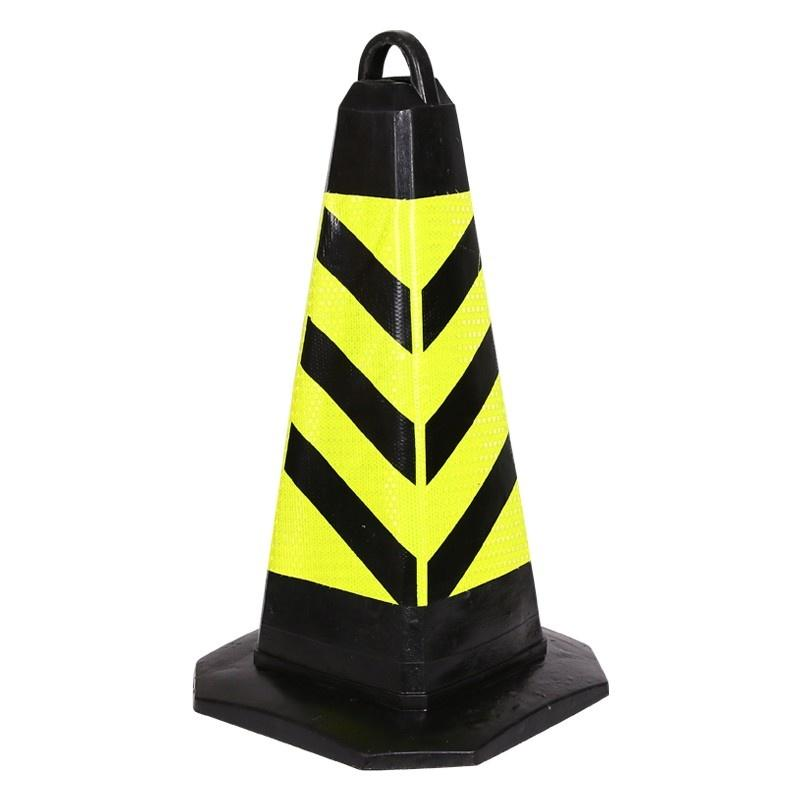cone_barrel: (191, 28, 611, 768)
